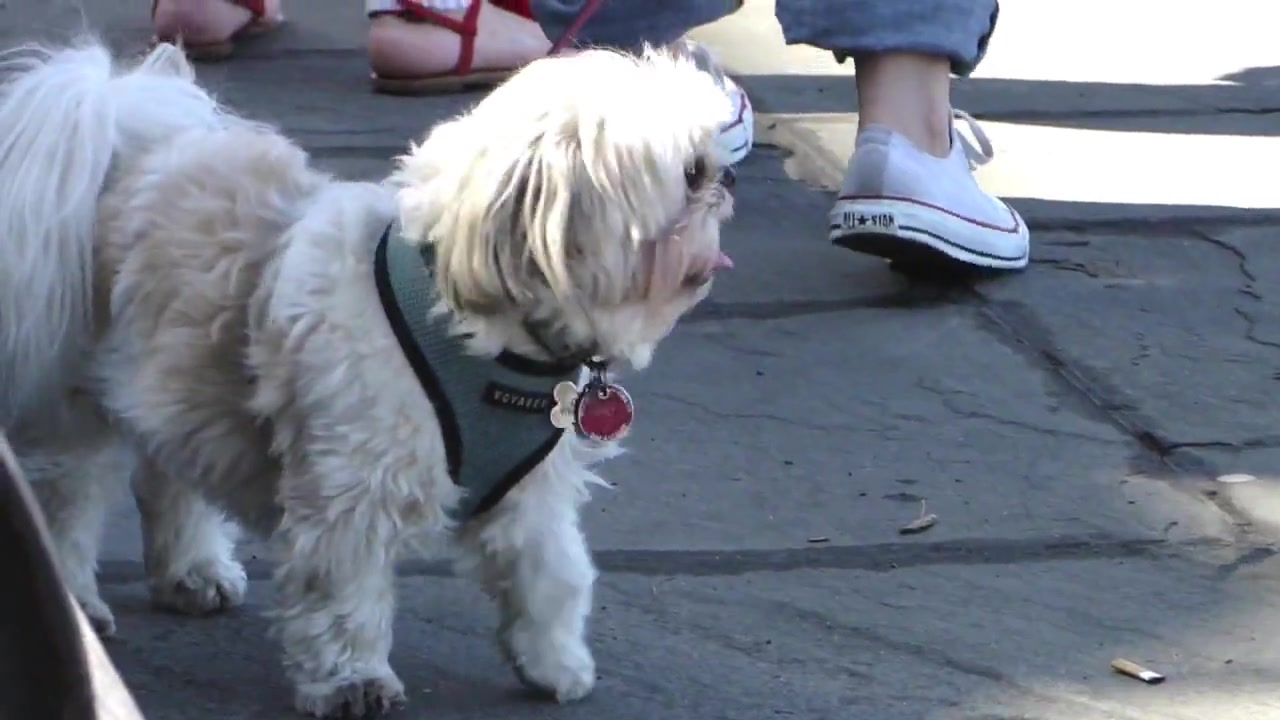dog: (1, 31, 740, 720)
